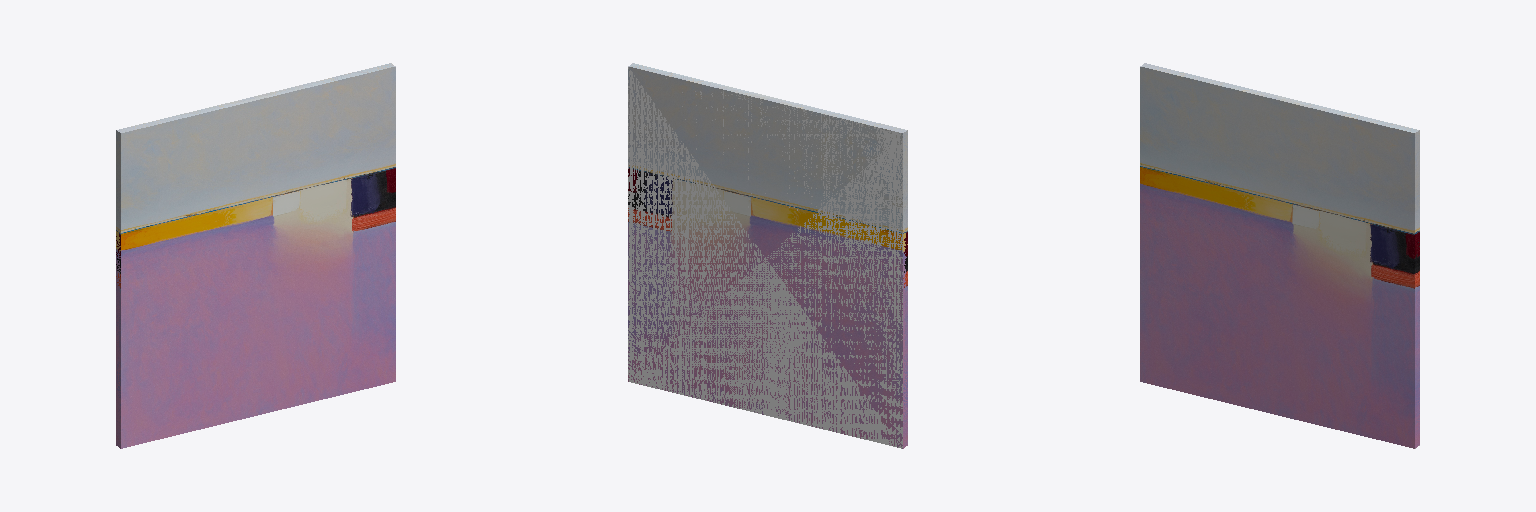
3 renders of one model, left to right at view 1: azimuth 30°, elevation 25°; view 2: azimuth 150°, elevation 25°; view 3: azimuth 330°, elevation 25°, orthographic.
Parts seen in each view (by area): view 1: Mesh1 Group1 Model; view 2: Mesh1 Group1 Model; view 3: Mesh1 Group1 Model.
Boxes of the visible parts, box(x1,y1,x2,y2) form: Mesh1 Group1 Model: box(116, 63, 395, 448); Mesh1 Group1 Model: box(628, 63, 907, 448); Mesh1 Group1 Model: box(1140, 63, 1419, 448).
Size of the model in its own units: 1.37 by 1.5 by 0.04.
Materials: 2 (1 with a texture image).